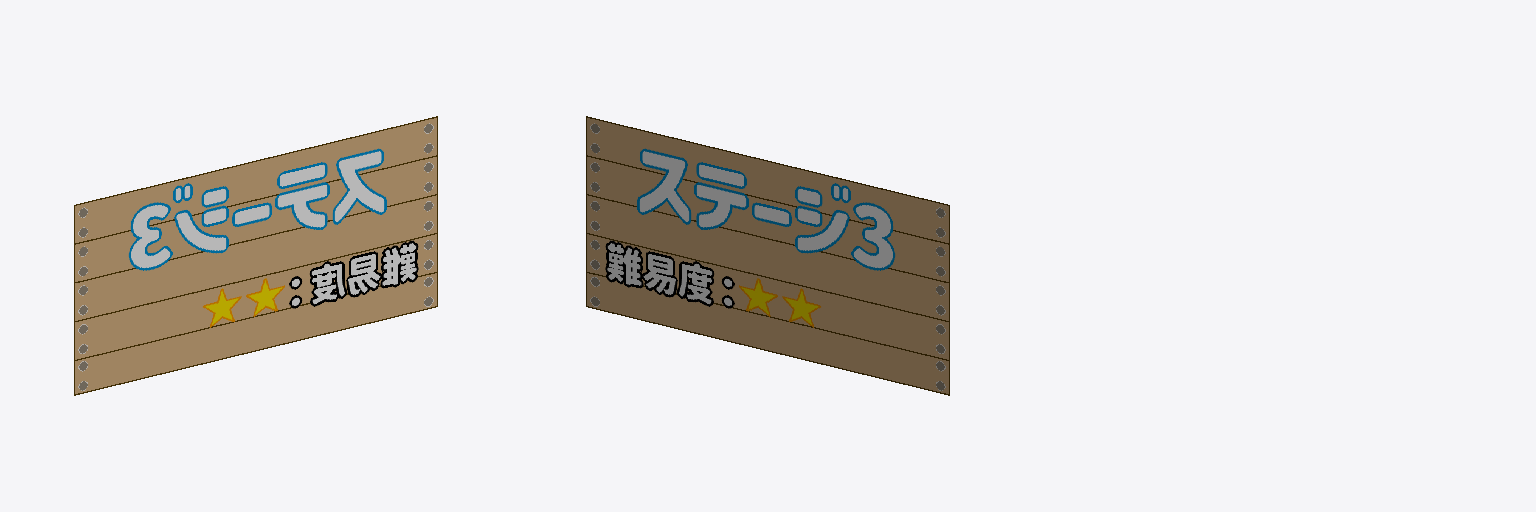
3 views of the same model, side by side, from view 1: azimuth 30°, elevation 25°; view 2: azimuth 150°, elevation 25°; view 3: azimuth 270°, elevation 25° (orthographic).
Visible parts, largest first — view 1: 平面; view 2: 平面; view 3: none.
Boxes of the visible parts, box(x1,y1,x2,y2) form: 平面: box(74, 116, 437, 395); 平面: box(586, 116, 949, 395).
Bounding box in the file's own units: 4 × 2 × 0.
Materials: 1 (1 with a texture image).